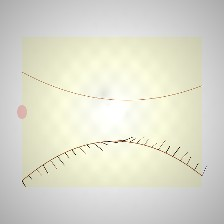hemorrhage_spot: (59, 89, 148, 160)
